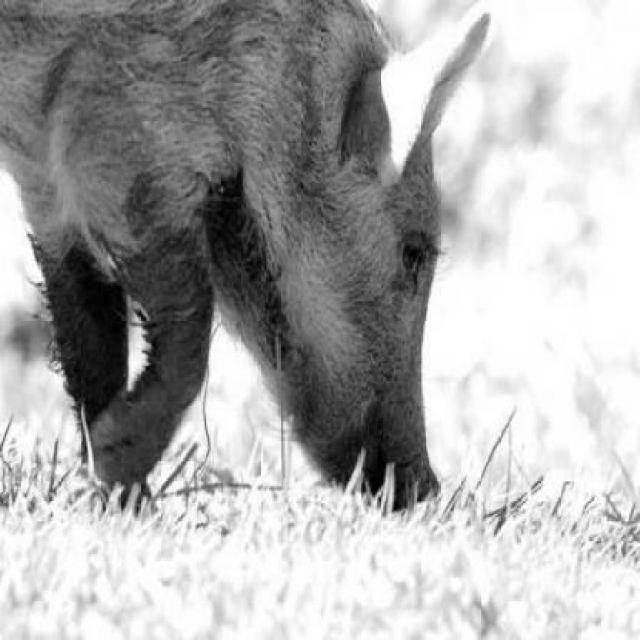pig: (16, 0, 504, 546)
